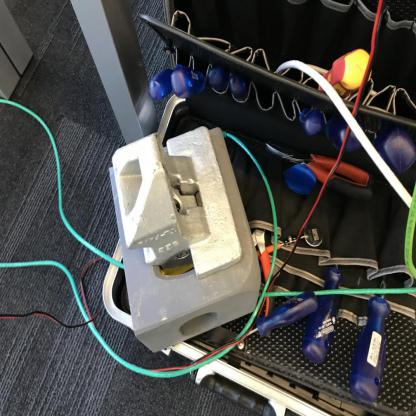CornerCasting: (124, 227, 259, 358)
Twistlock: (104, 111, 250, 286)
